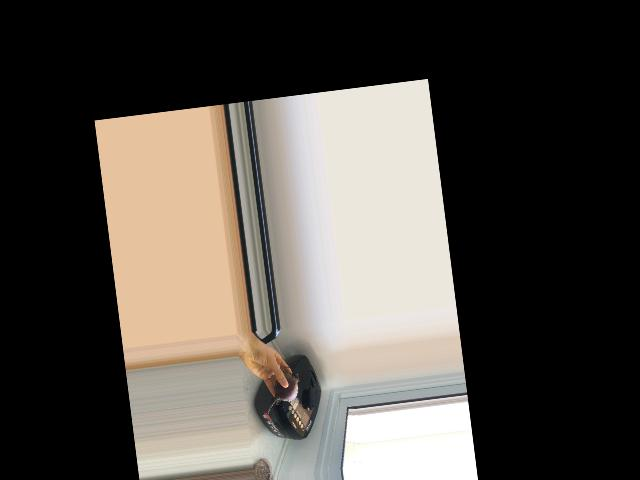beet: (261, 365, 302, 414)
